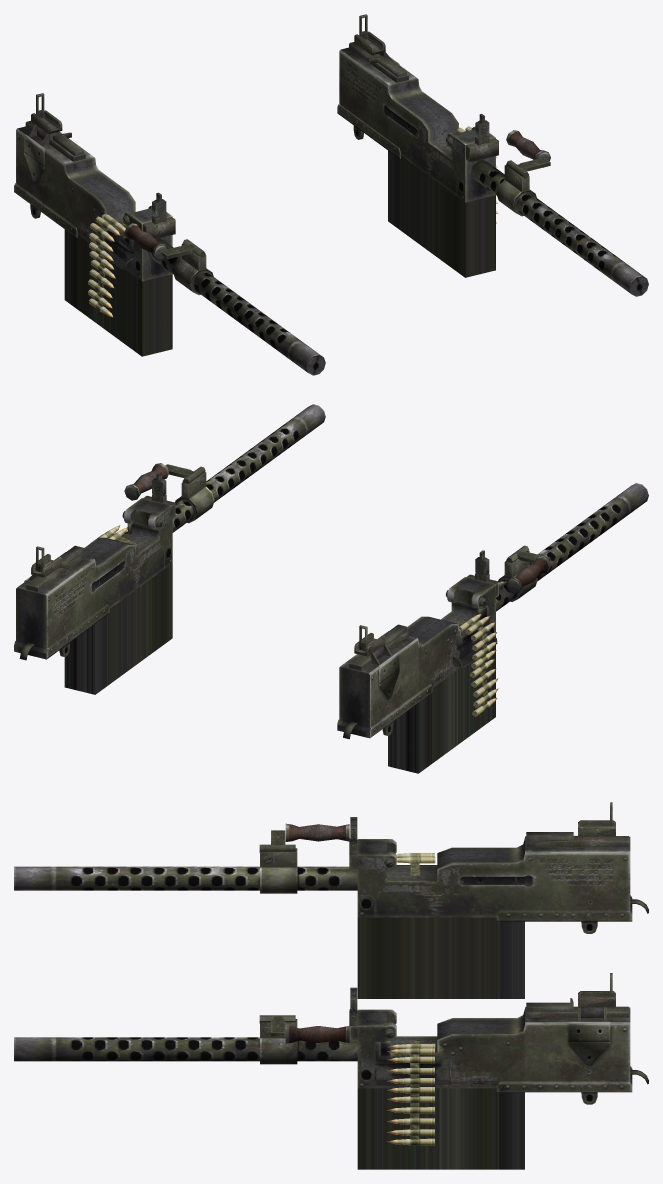
Rendered from car.FBX.
The picture shows the model from 3 angles, top to bottom: view 1: azimuth 30°, elevation 25°; view 2: azimuth 150°, elevation 25°; view 3: azimuth 270°, elevation 25°; orthographic projection. The views are drawn at different scales.
Visible parts, largest first — view 1: LOD01_30br, LOD01_30br001, LOD01_30b001; view 2: LOD01_30br, LOD01_30br001, LOD01_30b001; view 3: LOD01_30br001, LOD01_30br, LOD01_30b0, LOD01_30b001.
Part boxes in pixels (bbox=[...]): LOD01_30br: bbox=[337, 14, 648, 296]; LOD01_30br001: bbox=[14, 93, 325, 375]; LOD01_30b001: bbox=[88, 214, 126, 317]; LOD01_30br: bbox=[14, 404, 325, 694]; LOD01_30br001: bbox=[337, 483, 648, 773]; LOD01_30b001: bbox=[450, 613, 498, 716]; LOD01_30br001: bbox=[14, 802, 648, 998]; LOD01_30br: bbox=[14, 973, 648, 1169]; LOD01_30b0: bbox=[387, 1041, 435, 1145]; LOD01_30b001: bbox=[395, 853, 435, 875].
Size of what is drawn, in the model's own units: 0.8354 by 0.3469 by 1.07.
Materials: 4 (4 with a texture image).
